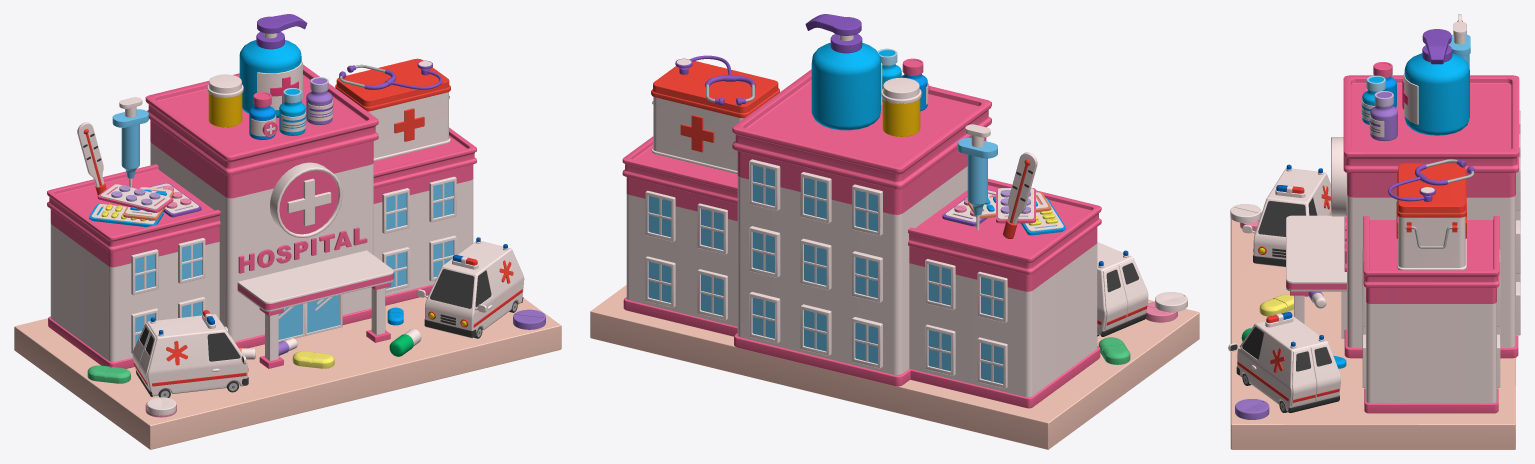
Rendered from Public_Island_3.glb.
The picture shows the model from 3 angles, left to right: view 1: azimuth 30°, elevation 25°; view 2: azimuth 150°, elevation 25°; view 3: azimuth 270°, elevation 25°; orthographic projection. The views are drawn at different scales.
Parts seen in each view (by area): view 1: Public_3_Hospital_1, Public_3_Base_1, Public_3_Ambulanse_2, Public_3_Ambulanse_1, Public_3_Medicine_Box_1, Public_3_Bottle_of_Disinfectant_1, Public_3_Bottle_of_Medicine_3, Public_3_Medicine_Syringe_1, Public_3_Pill_Pack_4, Public_3_Bottle_of_Medicine_1, Public_3_Bottle_of_Medicine_2, Public_3_Bottle_of_Medicine_4 (+9 smaller); view 2: Public_3_Hospital_1, Public_3_Base_1, Public_3_Medicine_Box_1, Public_3_Bottle_of_Disinfectant_1, Public_3_Ambulanse_2, Public_3_Bottle_of_Medicine_3, Public_3_Medicine_Syringe_1, Public_3_Thermomete_1, Public_3_Stethoscope_1, Public_3_Pill_Pack_4, Public_3_Pill_Pack_1, Public_3_Bottle_of_Medicine_1 (+2 smaller); view 3: Public_3_Hospital_1, Public_3_Base_1, Public_3_Ambulanse_1, Public_3_Medicine_Box_1, Public_3_Bottle_of_Disinfectant_1, Public_3_Ambulanse_2, Public_3_Bottle_of_Medicine_2, Public_3_Stethoscope_1, Public_3_Bottle_of_Medicine_4, Public_3_Medicine_Syringe_1, Public_3_Pill_7, Public_3_Pill_4 (+2 smaller).
Part boxes in pixels (x1,y1,x2,y2): Public_3_Hospital_1: (47, 64, 476, 368); Public_3_Base_1: (14, 295, 561, 449); Public_3_Ambulanse_2: (132, 310, 248, 397); Public_3_Ambulanse_1: (416, 237, 524, 338); Public_3_Medicine_Box_1: (335, 58, 450, 161); Public_3_Bottle_of_Disinfectant_1: (239, 14, 307, 118); Public_3_Bottle_of_Medicine_3: (207, 74, 243, 127); Public_3_Medicine_Syringe_1: (112, 97, 148, 187); Public_3_Pill_Pack_4: (97, 184, 173, 212); Public_3_Bottle_of_Medicine_1: (249, 92, 277, 139); Public_3_Bottle_of_Medicine_2: (306, 77, 333, 124); Public_3_Bottle_of_Medicine_4: (279, 88, 306, 135); Public_3_Hospital_1: (622, 69, 1101, 408); Public_3_Base_1: (590, 285, 1199, 449); Public_3_Medicine_Box_1: (651, 61, 779, 174); Public_3_Bottle_of_Disinfectant_1: (805, 14, 882, 130); Public_3_Ambulanse_2: (1097, 242, 1148, 336); Public_3_Bottle_of_Medicine_3: (881, 77, 921, 136); Public_3_Medicine_Syringe_1: (957, 124, 997, 230); Public_3_Thermomete_1: (1003, 152, 1037, 238); Public_3_Stethoscope_1: (675, 55, 755, 105); Public_3_Pill_Pack_4: (996, 188, 1035, 223); Public_3_Pill_Pack_1: (1021, 198, 1065, 235); Public_3_Bottle_of_Medicine_1: (900, 58, 929, 111); Public_3_Hospital_1: (1286, 75, 1520, 413); Public_3_Base_1: (1230, 218, 1515, 449); Public_3_Ambulanse_1: (1228, 312, 1340, 412); Public_3_Medicine_Box_1: (1396, 163, 1466, 270); Public_3_Bottle_of_Disinfectant_1: (1402, 29, 1469, 135); Public_3_Ambulanse_2: (1242, 164, 1330, 267); Public_3_Bottle_of_Medicine_2: (1369, 91, 1397, 140); Public_3_Stethoscope_1: (1388, 159, 1474, 201); Public_3_Bottle_of_Medicine_4: (1361, 75, 1385, 124); Public_3_Medicine_Syringe_1: (1449, 21, 1470, 67); Public_3_Pill_7: (1235, 399, 1269, 419); Public_3_Pill_4: (1259, 294, 1293, 316).
Size of the model in its own units: 21.93 by 15.4 by 12.85.
Materials: 26 (26 with a texture image).
